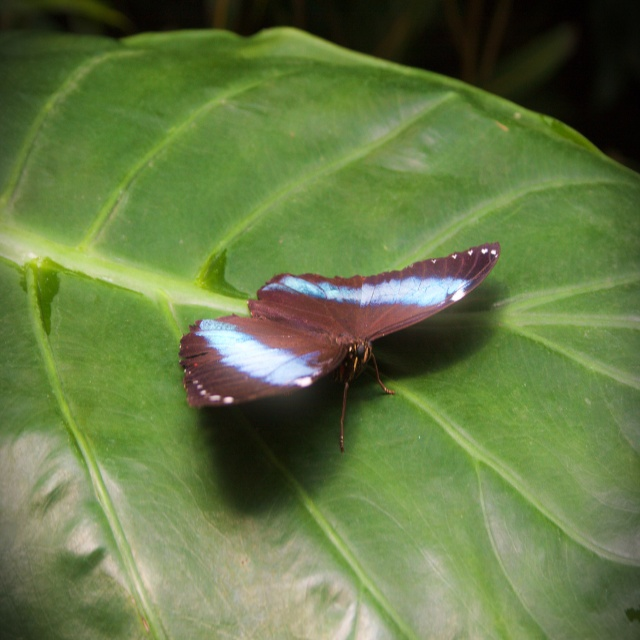Moths and butterflies: (173, 239, 504, 456)
